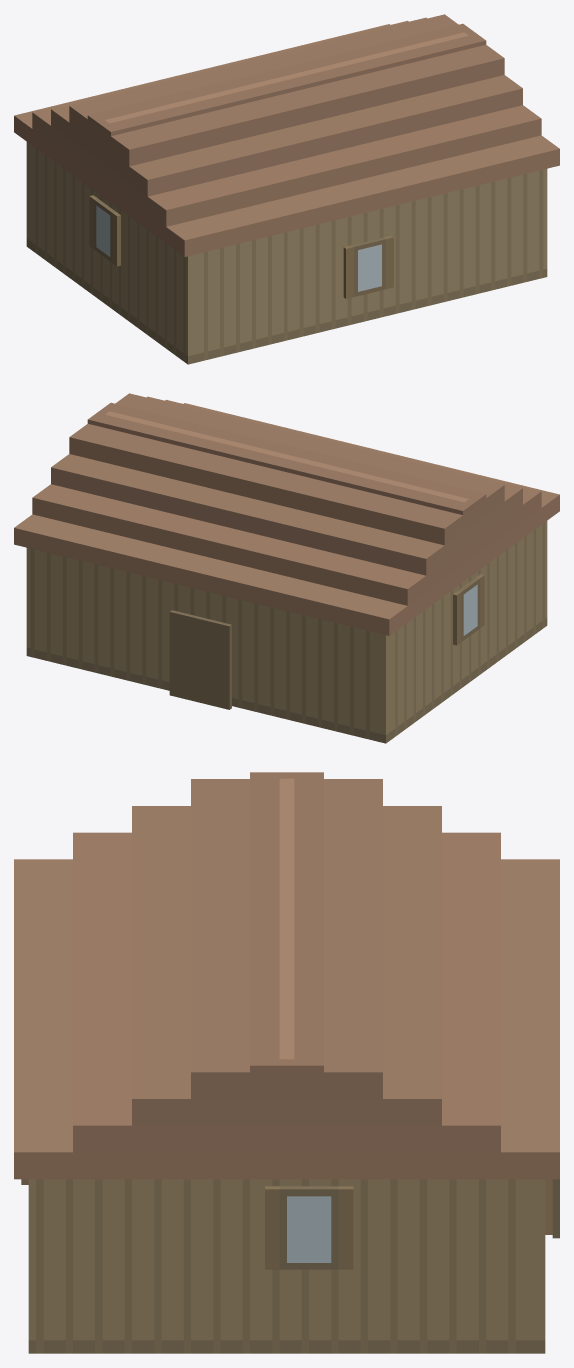
Rendered from taller_asedio_01.glb.
The picture shows the model from 3 angles, top to bottom: view 1: azimuth 30°, elevation 25°; view 2: azimuth 150°, elevation 25°; view 3: azimuth 270°, elevation 25°; orthographic projection. The views are drawn at different scales.
Parts seen in each view (by area): view 1: taller_asedio_01; view 2: taller_asedio_01; view 3: taller_asedio_01.
Boxes of the visible parts, <box> form: taller_asedio_01: <box>14,14,559,364</box>; taller_asedio_01: <box>14,393,559,743</box>; taller_asedio_01: <box>14,772,559,1353</box>.
Size of the model in its own units: 9.4 by 4.4 by 7.4.
